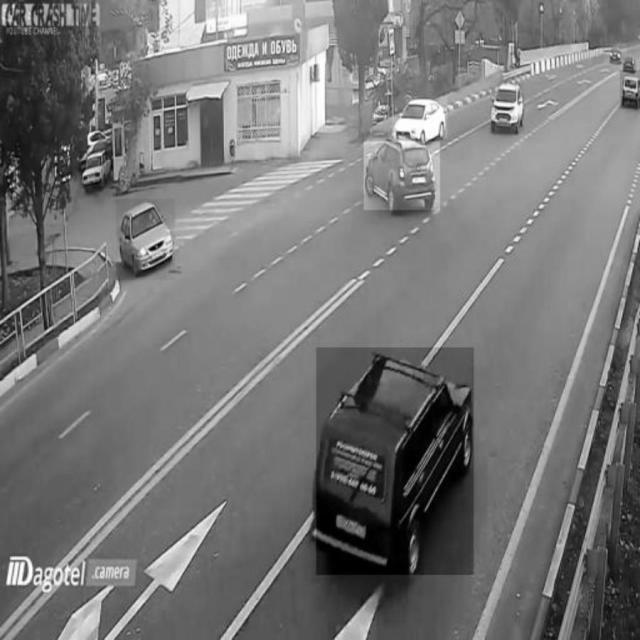vehicle: (316, 347, 473, 575), (364, 141, 440, 209), (117, 199, 175, 280), (393, 97, 448, 139), (490, 78, 526, 134), (79, 152, 114, 189), (620, 70, 640, 108), (606, 44, 626, 64)
